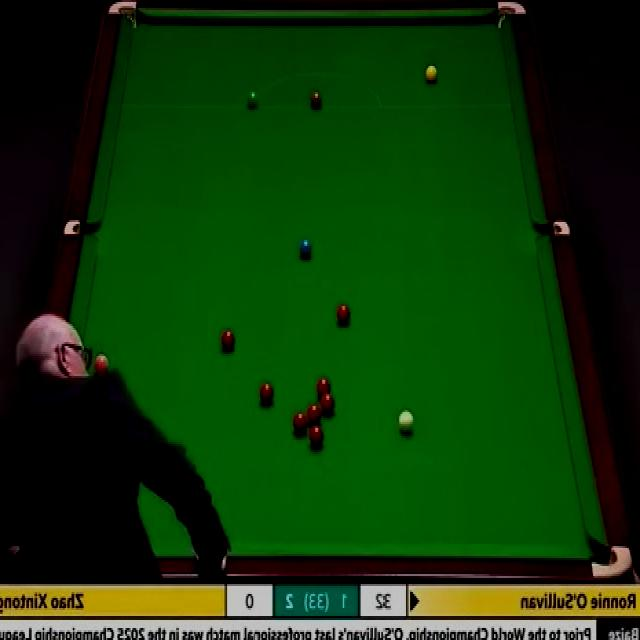blue-ball: (299, 237, 311, 260)
brown-ball: (309, 91, 323, 109)
green-ball: (247, 90, 260, 110)
pink-ball: (93, 353, 110, 375)
red-ball: (257, 380, 274, 408), (334, 305, 352, 326), (292, 410, 307, 434), (221, 328, 235, 352), (321, 393, 334, 418), (305, 407, 321, 427), (310, 426, 324, 448), (317, 378, 331, 399)
white-ball: (398, 408, 414, 438)
yellow-ball: (425, 64, 438, 86)
